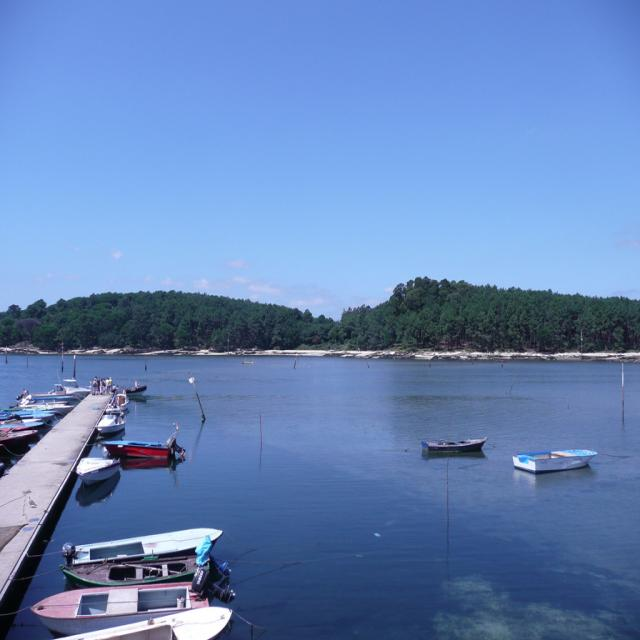Boat: (30, 567, 236, 635), (56, 604, 236, 639), (512, 445, 598, 474), (76, 456, 118, 486), (419, 439, 488, 456)
